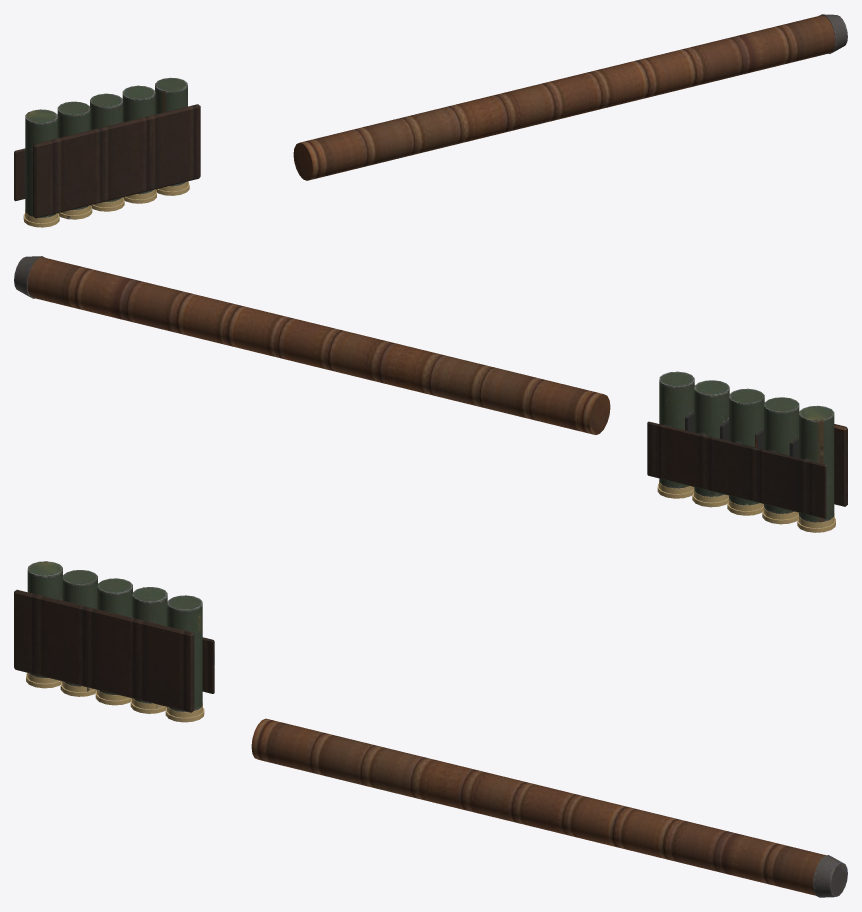
The model's file is shell_saddle.glb.
The picture shows the model from 3 angles, top to bottom: view 1: azimuth 30°, elevation 25°; view 2: azimuth 150°, elevation 25°; view 3: azimuth 330°, elevation 25°; orthographic projection. The views are drawn at different scales.
Parts seen in each view (by area): view 1: TubeMag, shell_saddle; view 2: TubeMag, shell_saddle; view 3: TubeMag, shell_saddle.
Part boxes in pixels (<box>): TubeMag: <box>293,14,847,180</box>; shell_saddle: <box>14,77,200,227</box>; TubeMag: <box>14,256,610,434</box>; shell_saddle: <box>647,371,847,532</box>; TubeMag: <box>251,718,847,897</box>; shell_saddle: <box>14,561,214,722</box>.
Bounding box in the file's own units: 0.557 × 0.07 × 0.0616.
1 material, 1 textured.
